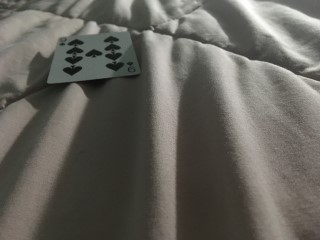NineOfSpades: (46, 32, 141, 84)
